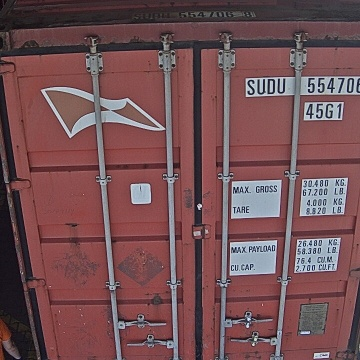serial_id: (246, 78, 360, 95)
